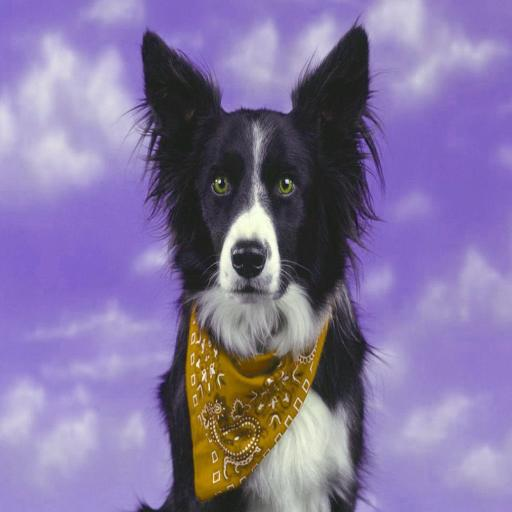dog_face: (137, 27, 382, 342)
